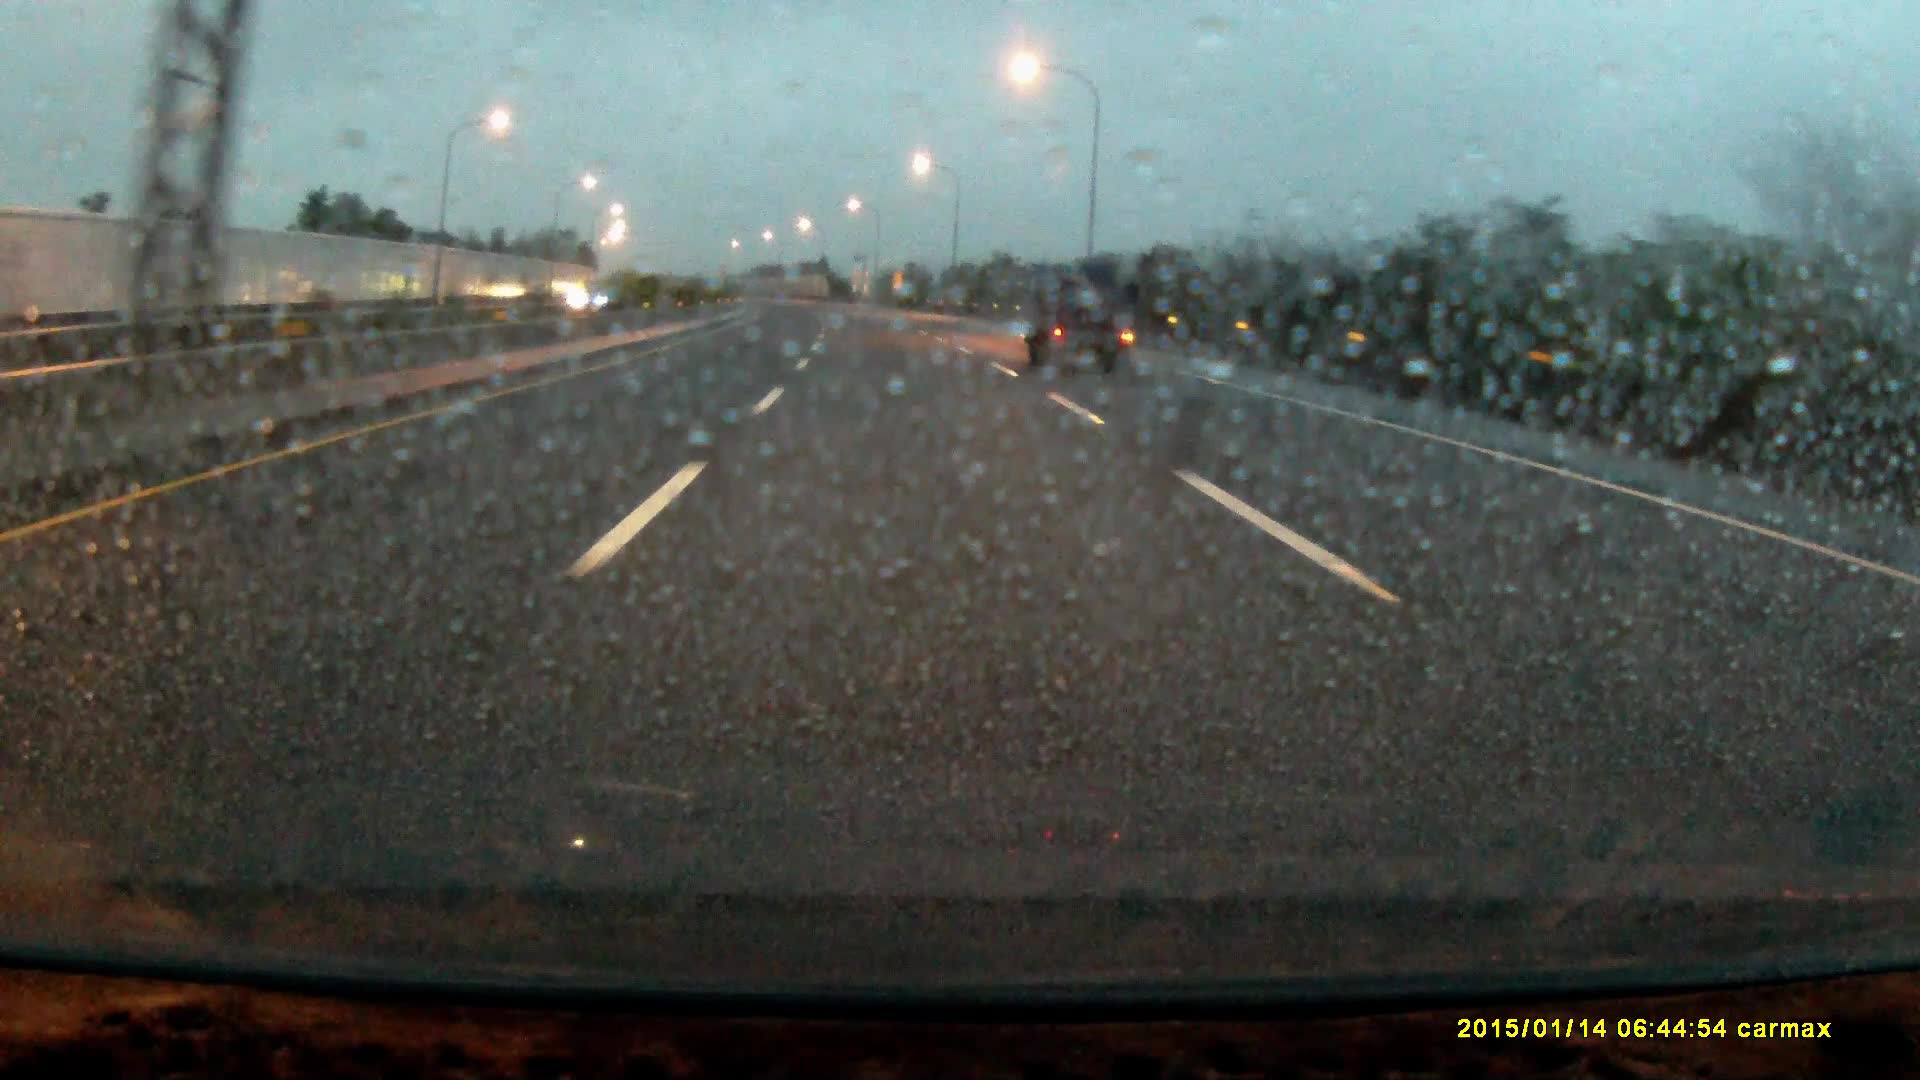vehicle: (1027, 273, 1134, 377), (554, 284, 611, 316)
